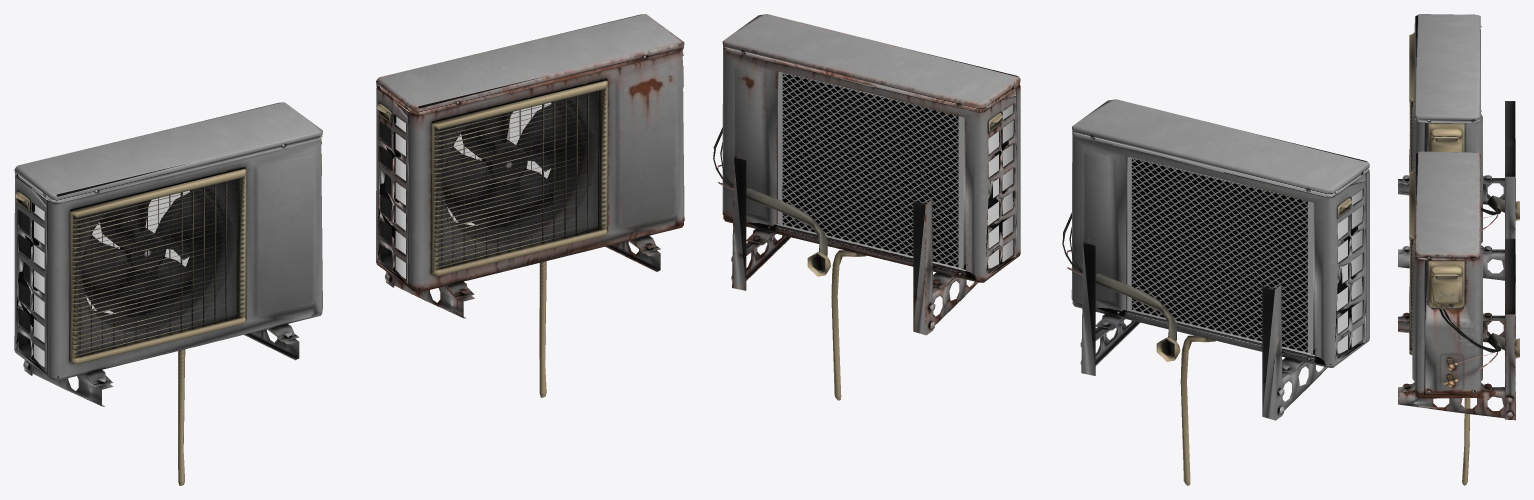
Rendered from exterior_aircon_unit.glb.
3 renders of one model, left to right at view 1: azimuth 30°, elevation 25°; view 2: azimuth 150°, elevation 25°; view 3: azimuth 270°, elevation 25°, orthographic. The views are drawn at different scales.
Visible parts, largest first — view 1: exterior_aircon_unit_rusted, exterior_aircon_unit; view 2: exterior_aircon_unit_rusted, exterior_aircon_unit; view 3: exterior_aircon_unit_rusted, exterior_aircon_unit.
Boxes of the visible parts, box(x1,y1,x2,y2) form: exterior_aircon_unit_rusted: box(376, 14, 684, 397); exterior_aircon_unit: box(14, 102, 322, 485); exterior_aircon_unit_rusted: box(713, 14, 1020, 400); exterior_aircon_unit: box(1062, 99, 1369, 485); exterior_aircon_unit_rusted: box(1398, 151, 1519, 485); exterior_aircon_unit: box(1398, 14, 1519, 282).
Size of the model in its own units: 1.8 by 0.9276 by 0.3741.
Materials: 4 (4 with a texture image).
